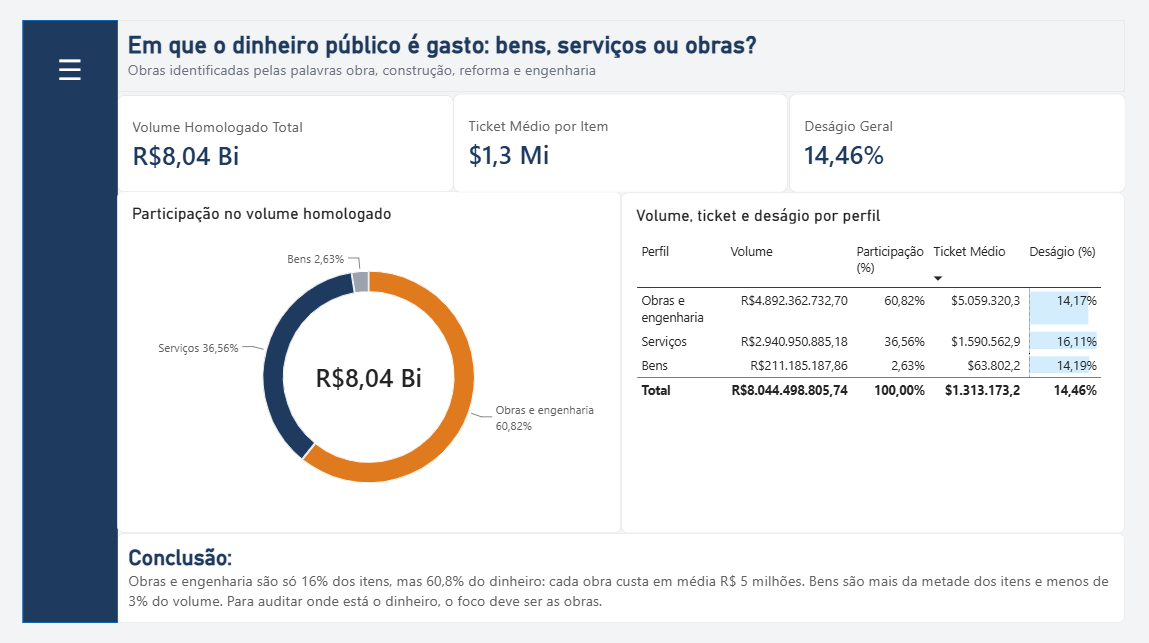

What the dashboard file says about the page in this screenshot:
{"tool":"powerbi","page":{"name":"6 Perfil","canvas":[1280,720],"ordinal":6},"visuals":[{"type":"textbox","title":"Em que o dinheiro público é gasto: bens, serviços ou obras?","box":[134,24,1120,80],"z":0},{"type":"cardVisual","fields":{"Data":["_Medidas.Volume Homologado"]},"box":[133.6,106.6,374,108.2],"z":1000},{"type":"cardVisual","fields":{"Data":["_Medidas.Economia Pct"]},"box":[880,103.3,374,110],"z":2000},{"type":"textbox","title":"  Conclusão:","box":[134,594,1120,100],"z":3000},{"type":"shape","box":[28,24,106,670],"z":4000},{"type":"donutChart","title":"Participação no volume homologado","fields":{"Category":["fato_item_contratado.perfil_gasto"],"Y":["_Medidas.Volume Homologado"]},"box":[134,214,560,380],"z":5000},{"type":"cardVisual","fields":{"Data":["_Medidas.Ticket Medio por Item"]},"box":[506.7,105,373.3,110],"z":6000},{"type":"tableEx","title":"Volume, ticket e deságio por perfil","fields":{"Values":["fato_item_contratado.perfil_gasto","_Medidas.Volume Homologado","_Medidas.Participacao Volume Pct","_Medidas.Ticket Medio por Item","_Medidas.Economia Pct"]},"box":[693.2,215.7,559.9,378.7],"z":7000},{"type":"actionButton","title":"Botão menu","box":[27.7,24.6,104.6,104.6],"z":8000}]}

Visuals, with their boxes in screenshot pixels (x1, y1, x2, y2), scaled from the page's 1280x720 canvas onto the 1149x643 screenshot:
"Em que o dinheiro público é gasto: bens, serviços ou obras?" textbox: <bbox>120, 21, 1126, 93</bbox>
cardVisual - _Medidas.Volume Homologado: <bbox>120, 95, 456, 192</bbox>
cardVisual - _Medidas.Economia Pct: <bbox>790, 92, 1126, 190</bbox>
"  Conclusão:" textbox: <bbox>120, 530, 1126, 620</bbox>
shape: <bbox>25, 21, 120, 620</bbox>
"Participação no volume homologado" donutChart: <bbox>120, 191, 623, 530</bbox>
cardVisual - _Medidas.Ticket Medio por Item: <bbox>455, 94, 790, 192</bbox>
"Volume, ticket e deságio por perfil" tableEx: <bbox>622, 193, 1125, 531</bbox>
"Botão menu" actionButton: <bbox>25, 22, 119, 115</bbox>
